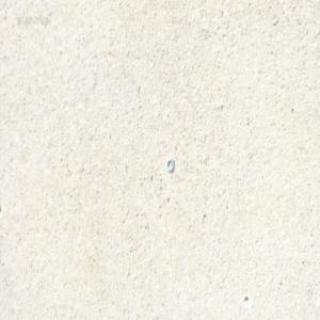Washertrack_idkeyframe: (165, 159, 173, 175)
